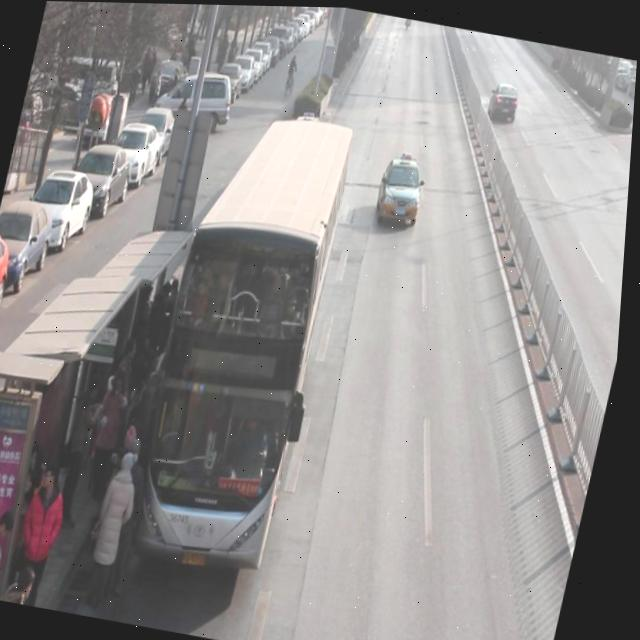car: (372, 148, 437, 236), (483, 80, 526, 126)
van: (127, 106, 363, 569)
